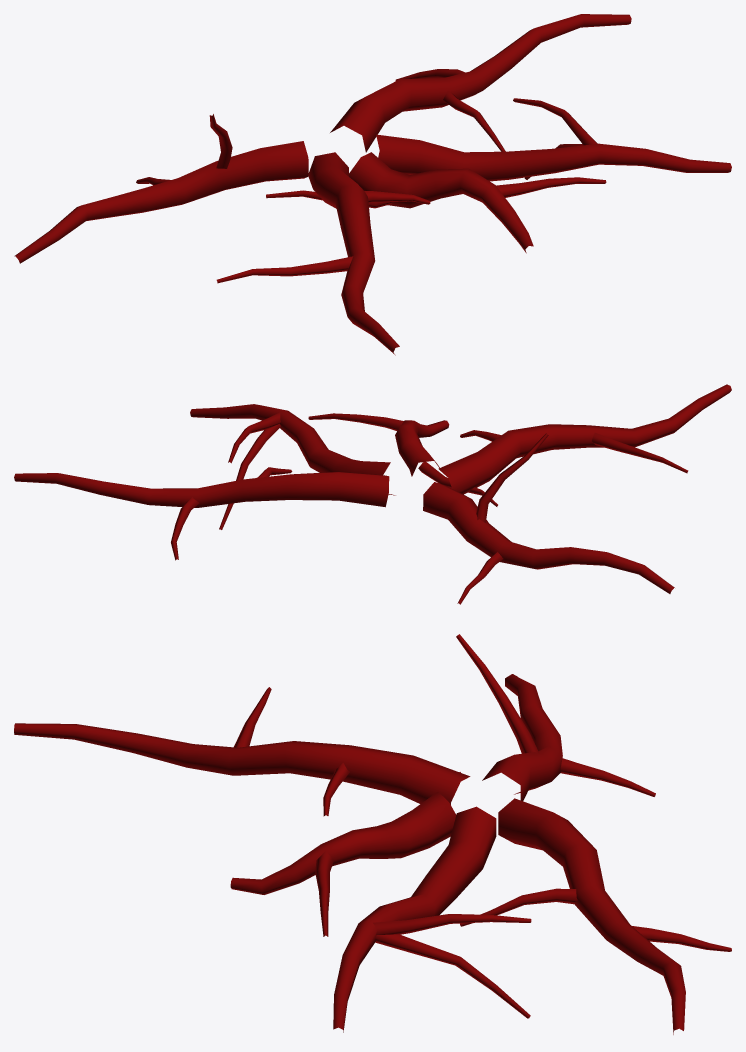
The model's file is roots_b.glb.
3 renders of one model, top to bottom at view 1: azimuth 30°, elevation 25°; view 2: azimuth 150°, elevation 25°; view 3: azimuth 270°, elevation 25°, orthographic. The views are drawn at different scales.
Parts seen in each view (by area): view 1: LOD0; view 2: LOD0; view 3: LOD0.
Boxes of the visible parts, <box> form: LOD0: <box>14,14,731,355</box>; LOD0: <box>14,384,731,604</box>; LOD0: <box>14,634,731,1034</box>.
Size of what is drawn, in the model's own units: 4.58 by 1.11 by 3.7.
